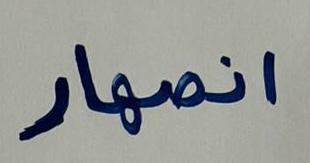alef: (252, 31, 294, 124), (72, 30, 103, 124)
heh: (105, 66, 150, 154)
noon: (209, 44, 250, 123)
reh: (12, 63, 70, 151)
sad: (153, 51, 207, 130)
